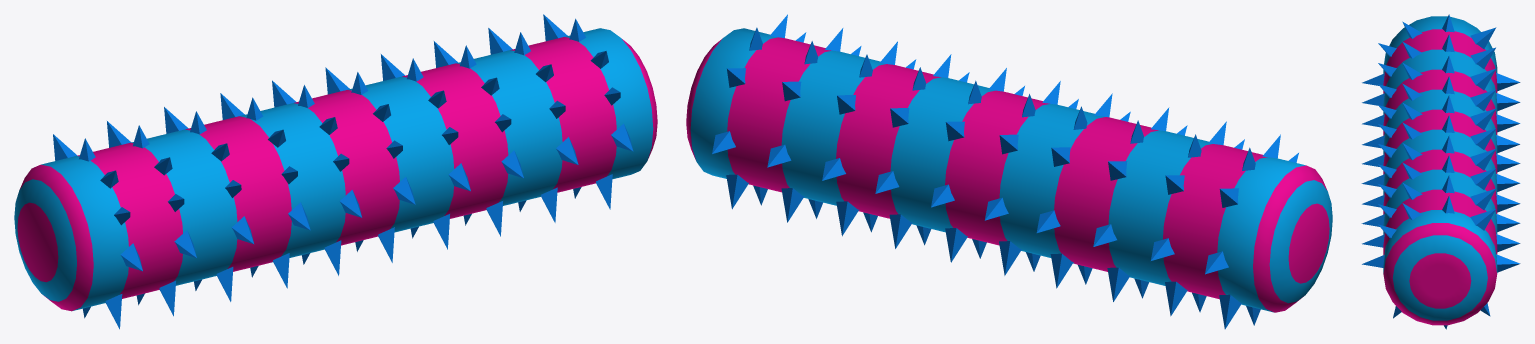
File: underprop-dikkenli.fbx
3 renders of one model, left to right at view 1: azimuth 30°, elevation 25°; view 2: azimuth 150°, elevation 25°; view 3: azimuth 270°, elevation 25°, orthographic. The views are drawn at different scales.
Parts seen in each view (by area): view 1: NurbsPath.004; view 2: NurbsPath.004; view 3: NurbsPath.004.
Part boxes in pixels (x1,y1,x2,y2): NurbsPath.004: (14, 14, 657, 329); NurbsPath.004: (686, 14, 1332, 329); NurbsPath.004: (1361, 14, 1520, 329).
Bounding box in the file's own units: 259 × 74.37 × 79.28.
